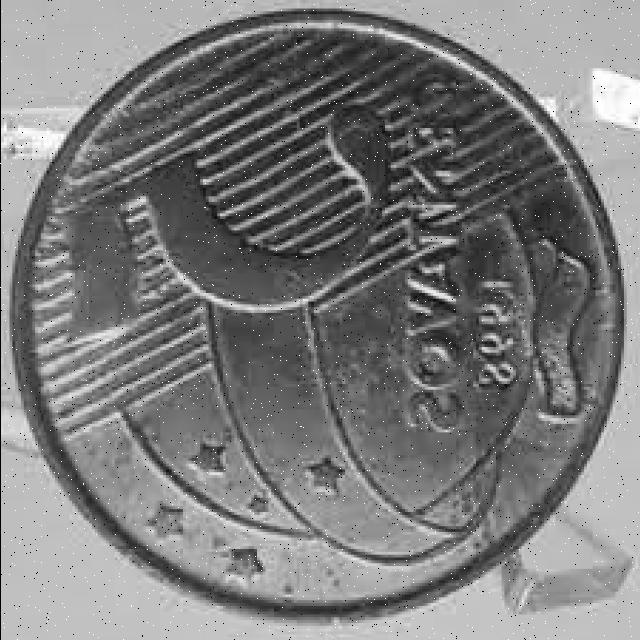5 cent: (9, 18, 613, 608)
